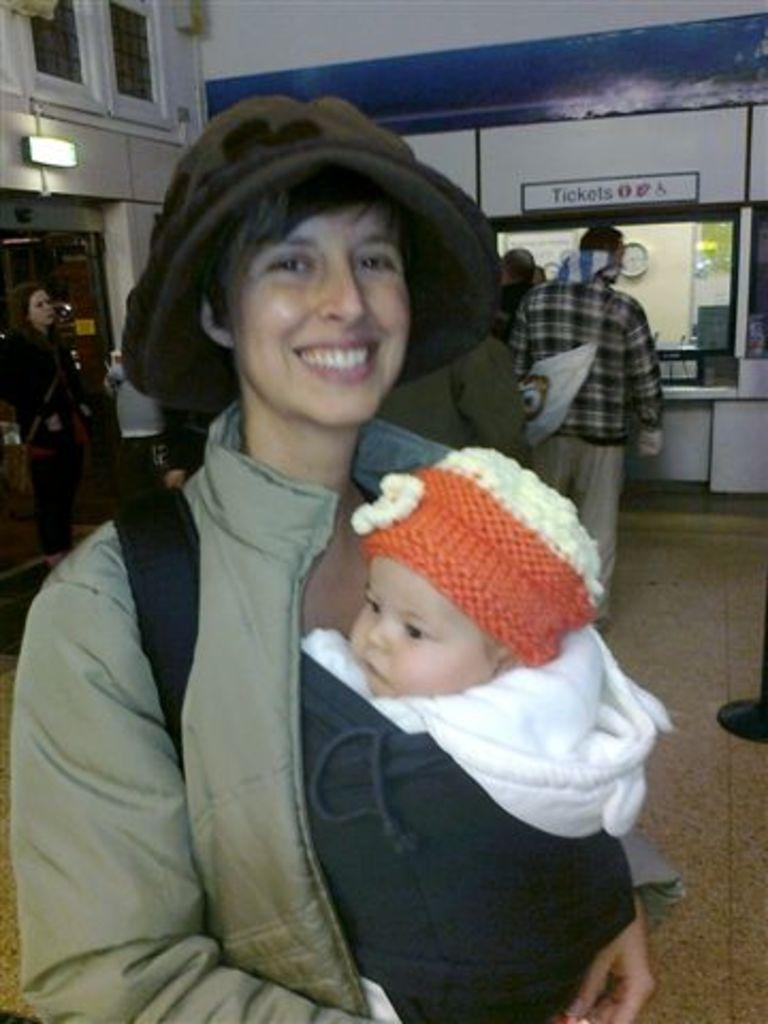Hat: (117, 90, 506, 416)
